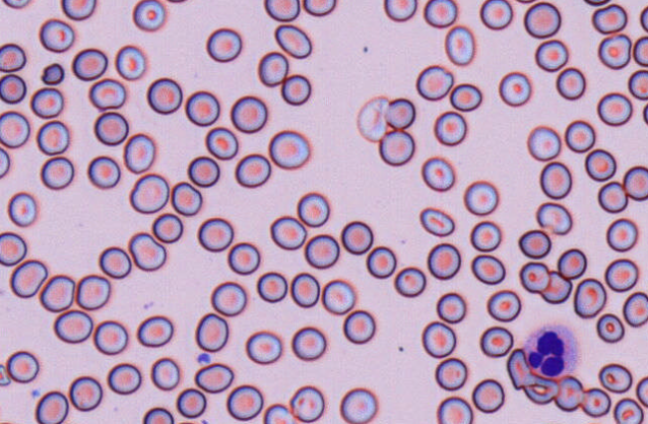GRAN: (524, 324, 580, 379)
PLT: (196, 353, 212, 364)
RBC: (268, 129, 310, 169), (129, 173, 169, 213), (9, 258, 47, 298), (128, 231, 166, 271), (230, 94, 267, 133), (415, 64, 453, 101), (523, 1, 561, 38), (339, 387, 378, 423), (194, 312, 229, 352), (573, 277, 607, 318), (378, 128, 414, 166), (39, 274, 75, 312), (225, 384, 263, 420), (53, 309, 93, 343), (122, 132, 155, 173), (288, 385, 324, 422), (146, 77, 182, 114), (421, 320, 456, 358), (274, 23, 312, 58), (463, 179, 499, 215), (184, 90, 220, 126), (269, 215, 306, 250), (426, 242, 461, 279), (210, 281, 247, 316), (234, 153, 271, 188), (205, 27, 242, 62), (444, 24, 475, 65), (75, 274, 110, 310), (93, 319, 128, 355), (304, 233, 339, 269), (526, 125, 561, 161), (197, 217, 233, 252), (596, 91, 632, 126), (535, 201, 572, 235), (245, 330, 282, 364), (71, 47, 108, 81), (539, 161, 572, 199), (88, 77, 126, 110), (194, 362, 234, 393), (291, 326, 326, 361), (321, 278, 355, 314), (68, 375, 102, 411), (421, 155, 455, 191), (433, 110, 467, 146), (296, 191, 330, 227), (597, 33, 631, 69), (38, 18, 74, 52), (136, 314, 173, 347), (471, 378, 505, 413), (604, 257, 638, 292), (40, 155, 74, 190), (498, 71, 532, 106), (93, 111, 128, 145), (36, 119, 69, 155), (257, 50, 289, 87), (204, 126, 238, 160), (486, 289, 521, 322), (342, 309, 375, 344), (34, 390, 69, 423), (106, 362, 141, 395), (605, 217, 638, 252), (114, 44, 146, 80), (553, 375, 584, 412), (0, 110, 30, 148), (539, 270, 572, 304), (434, 357, 467, 391), (98, 245, 131, 279), (340, 220, 373, 254), (227, 241, 260, 275), (5, 350, 39, 383), (534, 39, 568, 72), (87, 155, 120, 189), (470, 253, 505, 285), (170, 181, 202, 216), (591, 3, 627, 34), (479, 325, 513, 357), (29, 86, 63, 118), (584, 148, 616, 181), (187, 155, 220, 187), (598, 362, 632, 393), (564, 119, 595, 153), (555, 66, 586, 100), (132, 0, 166, 31), (419, 206, 454, 236), (290, 272, 320, 307), (7, 191, 37, 226), (522, 375, 558, 404), (518, 261, 550, 293), (393, 266, 426, 297), (597, 180, 628, 213), (365, 245, 396, 278), (479, 0, 513, 30), (436, 396, 473, 423), (556, 247, 587, 279), (151, 212, 183, 243), (469, 220, 501, 251), (280, 73, 311, 105), (518, 228, 551, 258), (150, 357, 180, 390), (175, 387, 206, 418), (256, 271, 287, 302), (385, 97, 415, 129), (436, 291, 466, 323), (449, 82, 482, 111), (423, 0, 457, 28), (0, 231, 27, 266), (580, 387, 611, 417), (622, 291, 647, 327), (596, 312, 624, 343), (623, 165, 647, 200), (613, 397, 643, 423), (0, 73, 26, 103), (0, 42, 26, 72), (263, 0, 300, 21), (383, 0, 417, 22), (60, 0, 96, 20), (262, 403, 295, 423), (627, 69, 647, 100), (142, 406, 174, 423), (302, 0, 336, 16), (632, 35, 647, 66), (636, 375, 647, 408), (0, 146, 10, 178), (2, 0, 31, 8), (639, 4, 647, 32), (583, 0, 611, 6), (642, 101, 647, 125), (514, 0, 537, 4), (164, 0, 193, 3)
Schistocyte: (356, 95, 390, 142), (506, 349, 534, 389), (41, 63, 65, 86), (0, 363, 10, 389)
